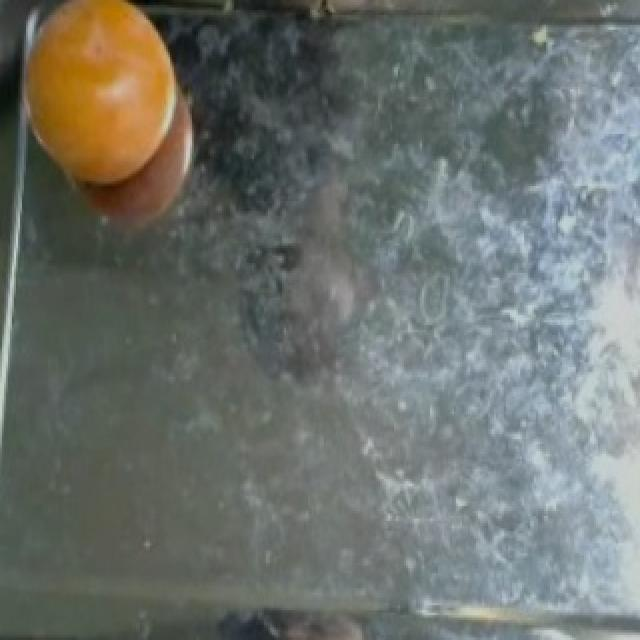Fruit: (6, 0, 200, 203), (208, 595, 422, 640)
